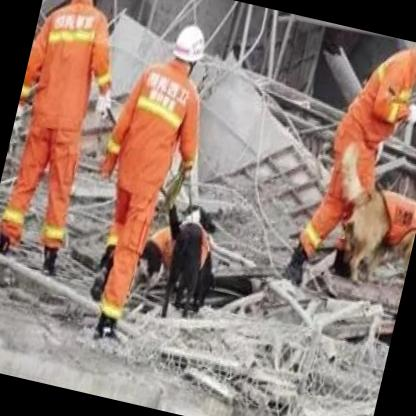bee: (164, 18, 210, 80), (67, 0, 107, 12)
